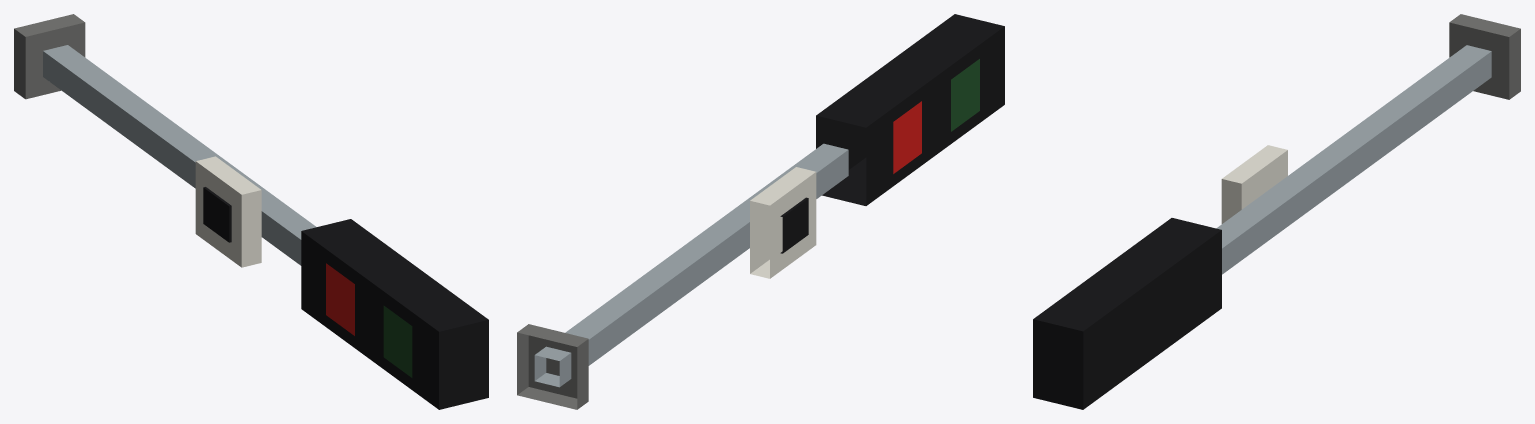
The model's file is red.glb.
The picture shows the model from 3 angles, left to right: view 1: azimuth 30°, elevation 25°; view 2: azimuth 150°, elevation 25°; view 3: azimuth 330°, elevation 25°; orthographic projection.
Parts seen in each view (by area): view 1: signal_electric_exit_red; view 2: signal_electric_exit_red; view 3: signal_electric_exit_red.
Part boxes in pixels (bbox=[...]): signal_electric_exit_red: bbox=[14, 14, 488, 409]; signal_electric_exit_red: bbox=[517, 14, 1004, 409]; signal_electric_exit_red: bbox=[1033, 14, 1520, 409].
Bounding box in the file's own units: 1.35 × 1.5 × 14.8.
